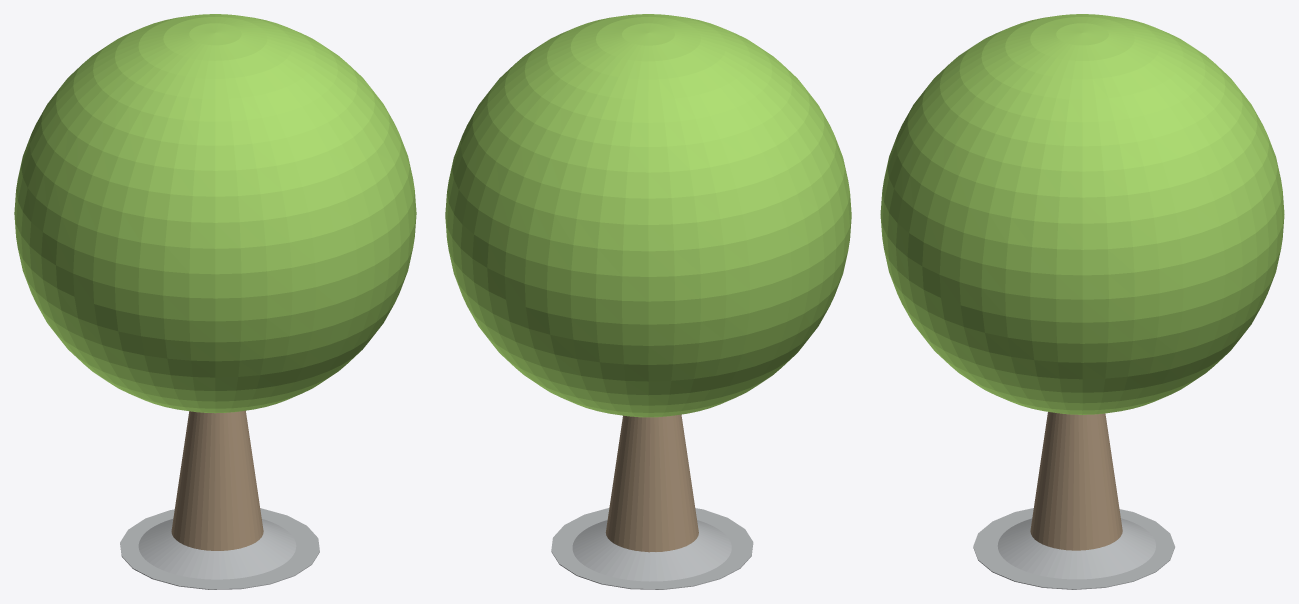
File: SecondaryTreeLime.glb
The picture shows the model from 3 angles, left to right: view 1: azimuth 30°, elevation 25°; view 2: azimuth 150°, elevation 25°; view 3: azimuth 270°, elevation 25°; orthographic projection.
Visible parts, largest first — view 1: Mesh_Mesh_head_geo.001_lambert2SG.001; view 2: Mesh_Mesh_head_geo.001_lambert2SG.001; view 3: Mesh_Mesh_head_geo.001_lambert2SG.001.
Part boxes in pixels (x1,y1,x2,y2): Mesh_Mesh_head_geo.001_lambert2SG.001: (14,14,416,589); Mesh_Mesh_head_geo.001_lambert2SG.001: (445,14,851,589); Mesh_Mesh_head_geo.001_lambert2SG.001: (880,14,1284,589).
Size of the model in its own units: 5 by 7.02 by 5.
